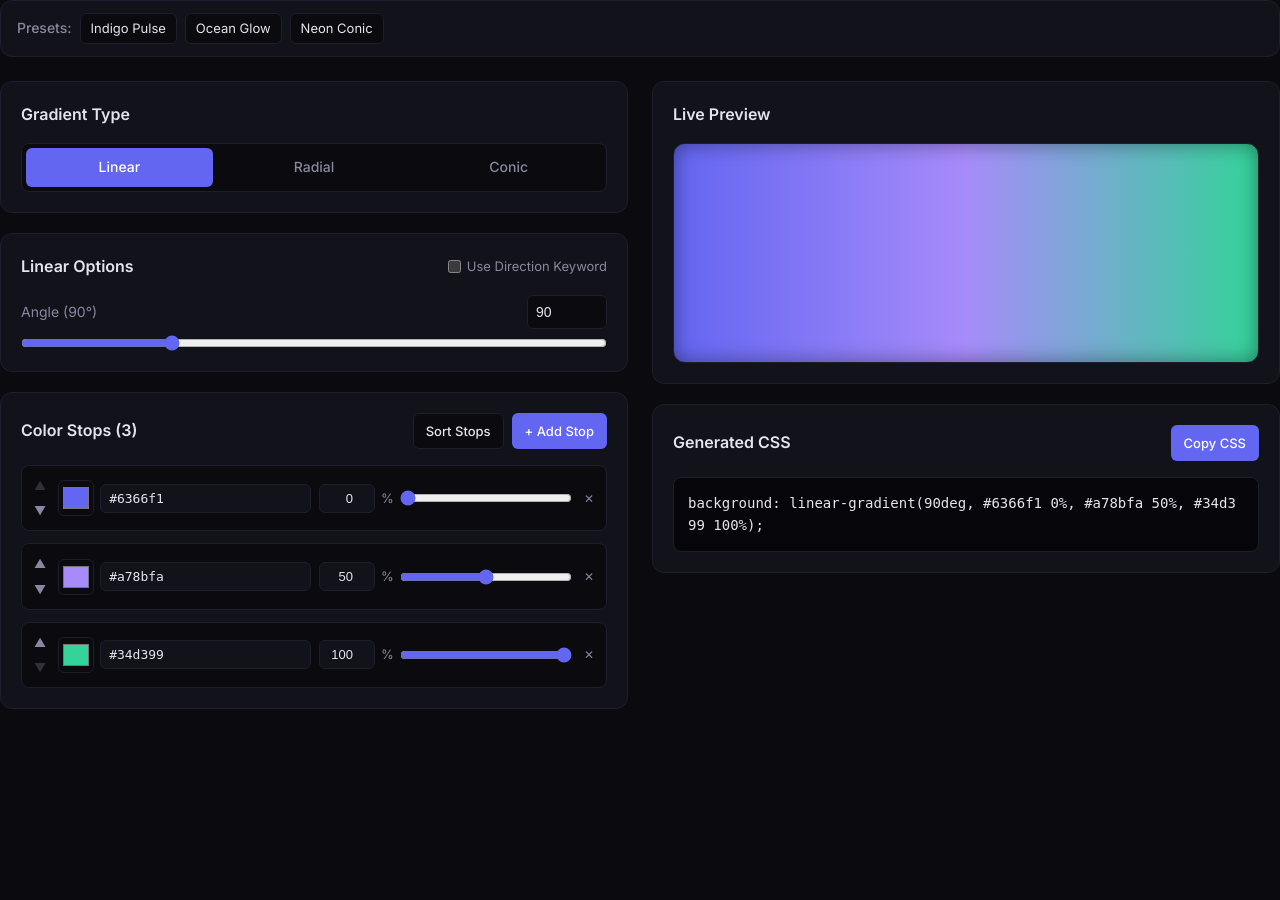
CssGradientTool Component › switches between linear, radial, and conic gradient types
# Switch to Radial
Step 1. Click the button "Radial" → (314, 168), box 221,148 -> 407,187
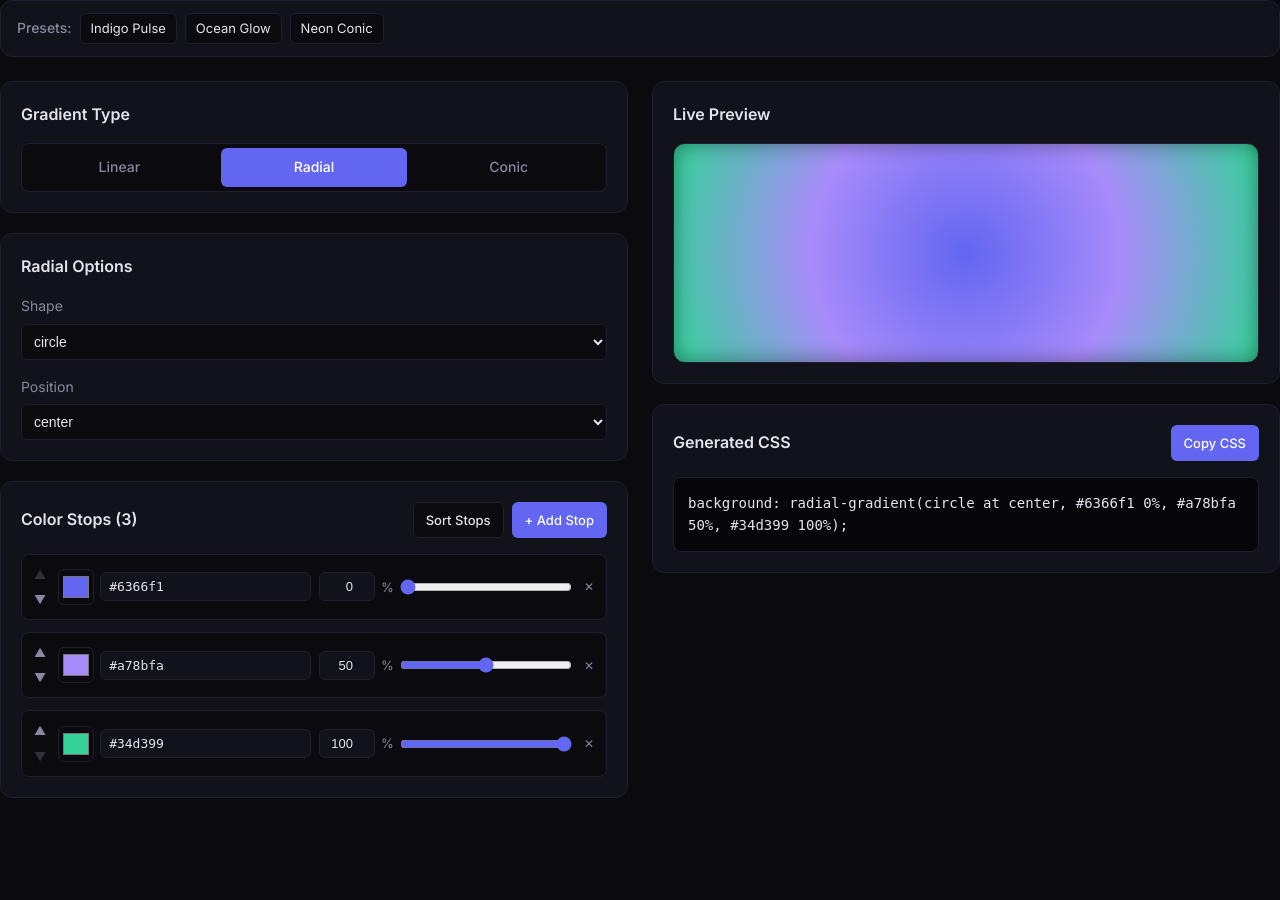
Expected: the text "background: radial-gradient" is shown, 688,495 -> 1244,533
# Switch to Conic
Step 2. Click the button "Conic" → (509, 168), box 415,148 -> 602,187
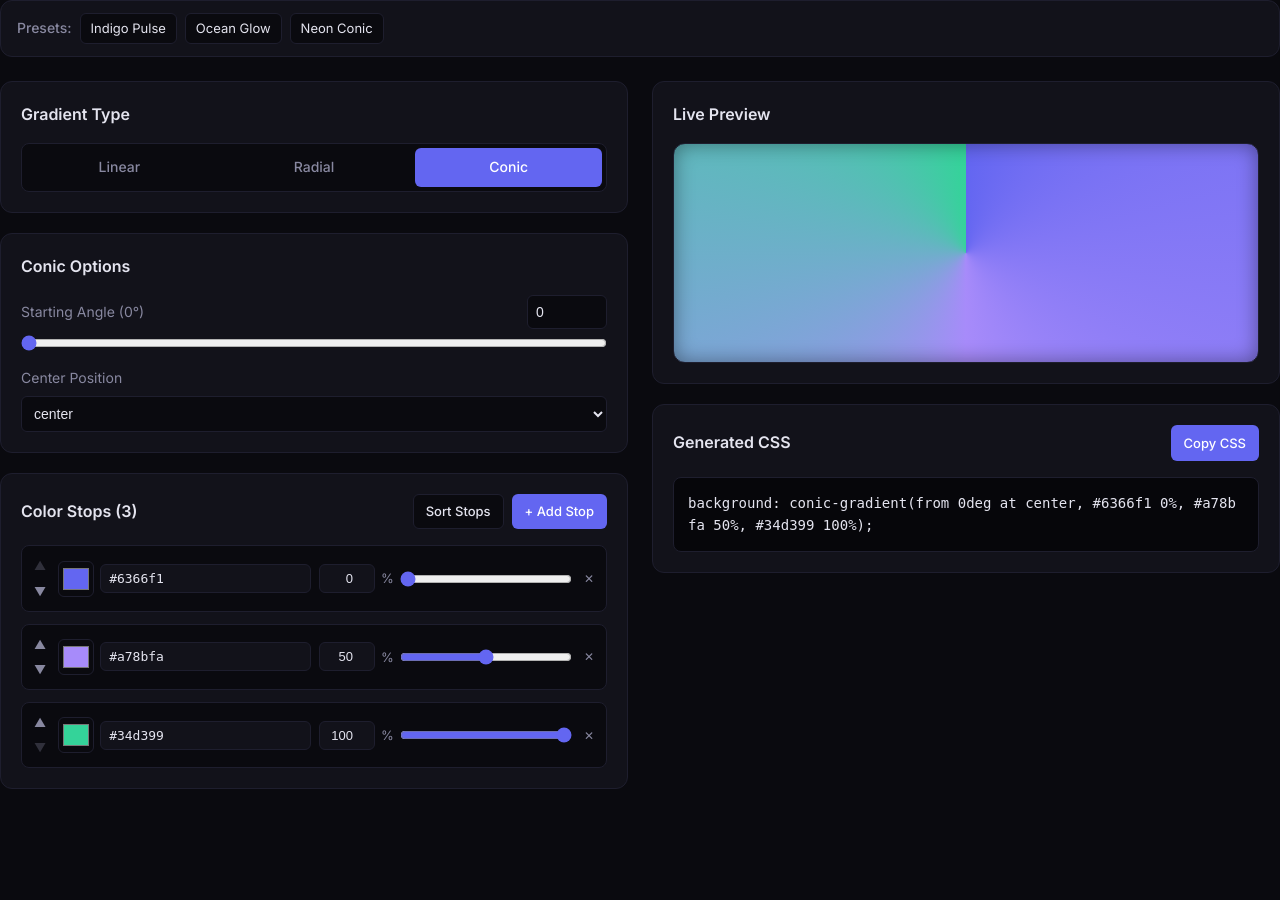
Expected: the text "background: conic-gradient" is shown, 688,495 -> 1236,533
